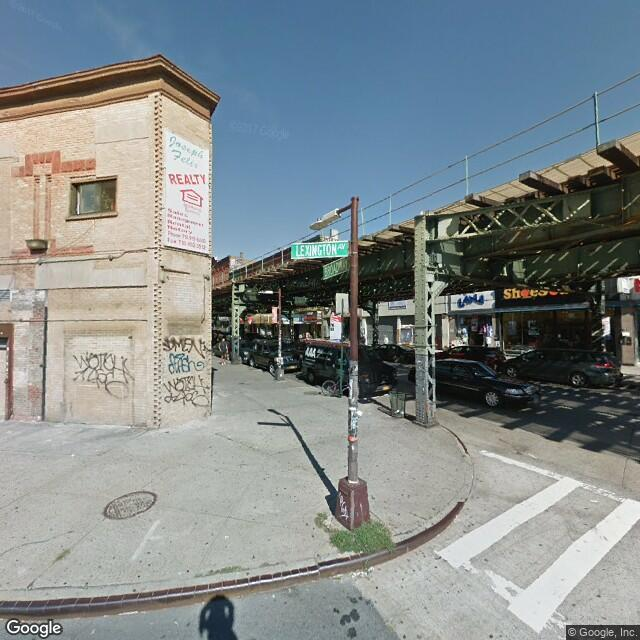litter: (210, 528, 235, 543), (68, 450, 83, 467)
